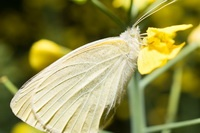insect: (10, 27, 138, 131)
